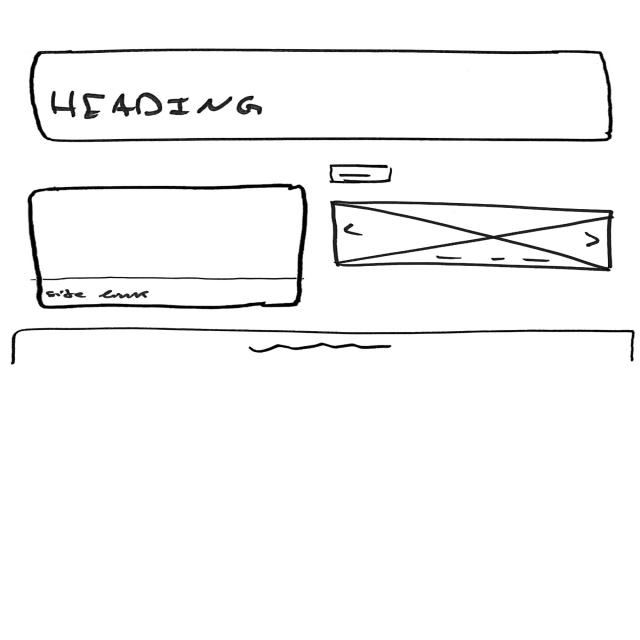container: (29, 49, 619, 145), (28, 183, 320, 311)
icon-button: (331, 163, 395, 186)
image: (329, 197, 617, 273)
label: (51, 91, 265, 120), (46, 288, 151, 302)
text: (249, 343, 395, 357)
